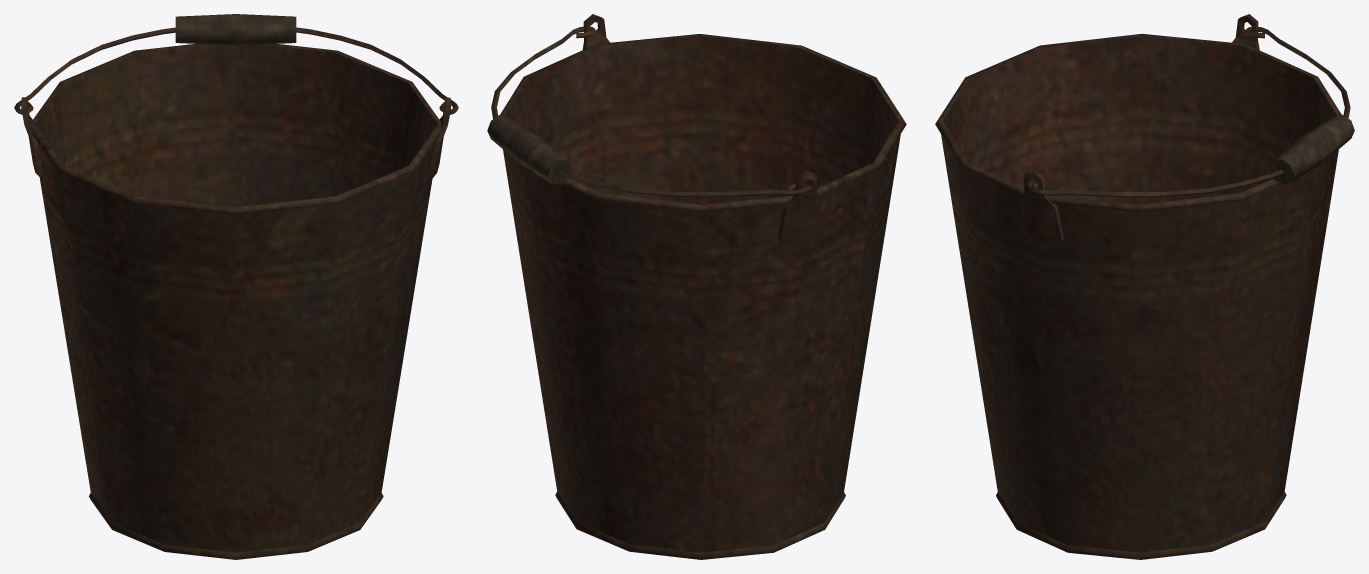
Rendered from bucket_mx_1.dae.
3 views of the same model, side by side, from view 1: azimuth 30°, elevation 25°; view 2: azimuth 150°, elevation 25°; view 3: azimuth 270°, elevation 25° (orthographic).
Parts seen in each view (by area): view 1: bucket_mx_1; view 2: bucket_mx_1; view 3: bucket_mx_1.
Part boxes in pixels (x1=…): bucket_mx_1: x1=14, y1=14, x2=458, y2=559; bucket_mx_1: x1=487, y1=14, x2=906, y2=559; bucket_mx_1: x1=935, y1=14, x2=1354, y2=559.
Size of the model in its own units: 0.43 by 0.4359 by 0.4654.
Materials: 1 (1 with a texture image).
